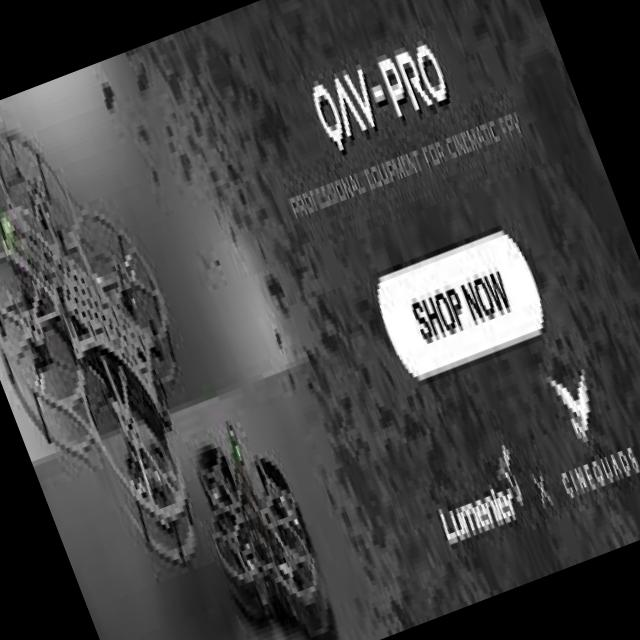drone: (0, 103, 262, 602), (171, 402, 362, 640)
